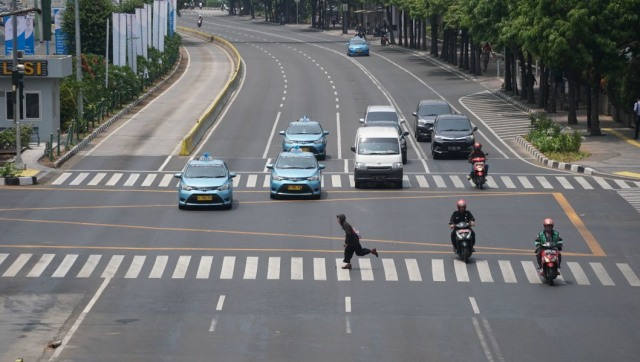car: (177, 156, 234, 208), (355, 128, 401, 190), (269, 153, 322, 201), (432, 112, 473, 160), (281, 120, 329, 158), (415, 100, 454, 145), (358, 106, 406, 141), (349, 38, 367, 58)
motorbike: (534, 218, 563, 288), (449, 200, 477, 263), (469, 142, 489, 189)
